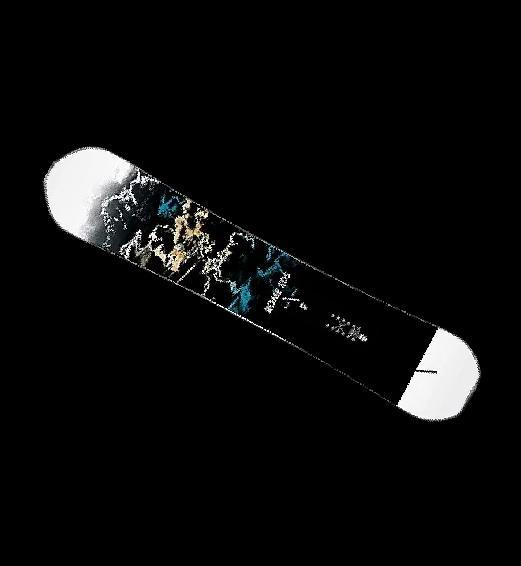Snowboard: (42, 127, 498, 436)
